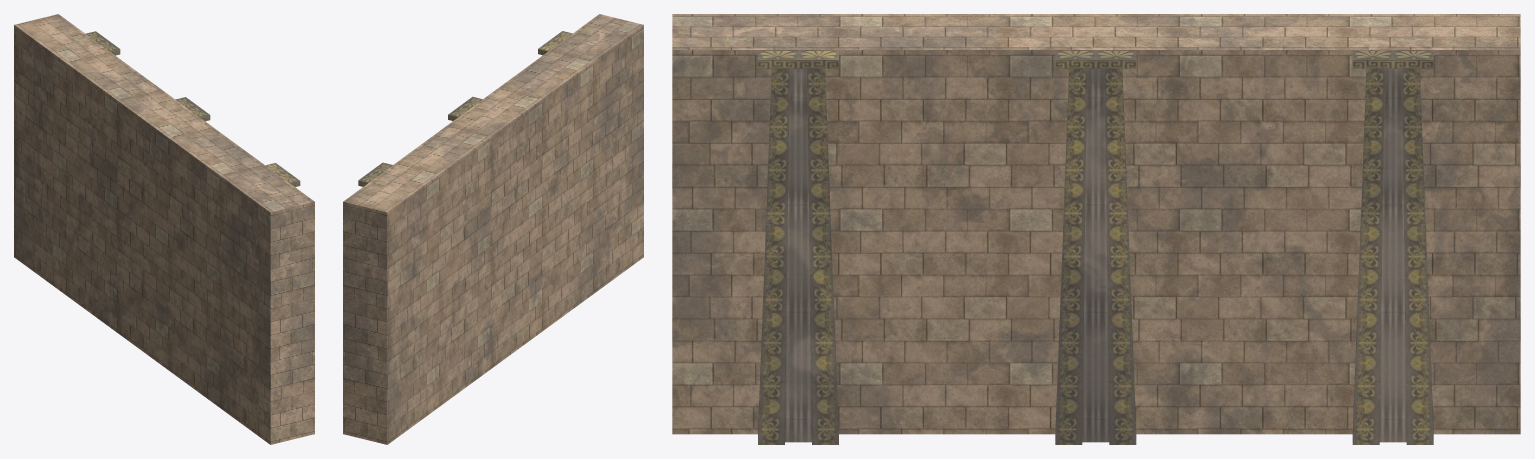
Rendered from SM_wall_10x20.glb.
3 views of the same model, side by side, from view 1: azimuth 30°, elevation 25°; view 2: azimuth 150°, elevation 25°; view 3: azimuth 270°, elevation 25° (orthographic). The views are drawn at different scales.
Parts seen in each view (by area): view 1: SM_wall_10x20; view 2: SM_wall_10x20; view 3: SM_wall_10x20.
Part boxes in pixels (x1=…): SM_wall_10x20: x1=14, y1=14, x2=314, y2=444; SM_wall_10x20: x1=343, y1=14, x2=643, y2=444; SM_wall_10x20: x1=672, y1=14, x2=1520, y2=444.
Bounding box in the file's own units: 2.66 × 10 × 20.
Materials: 2 (2 with a texture image).
